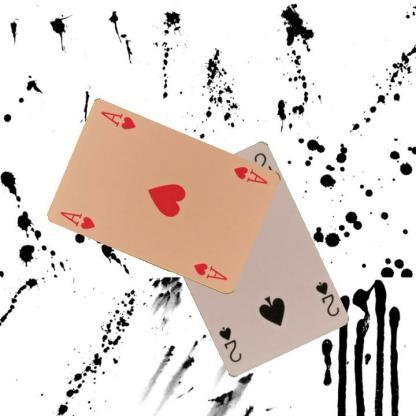2s: (313, 278, 340, 318)
Ah: (57, 208, 97, 230), (231, 164, 269, 186)
